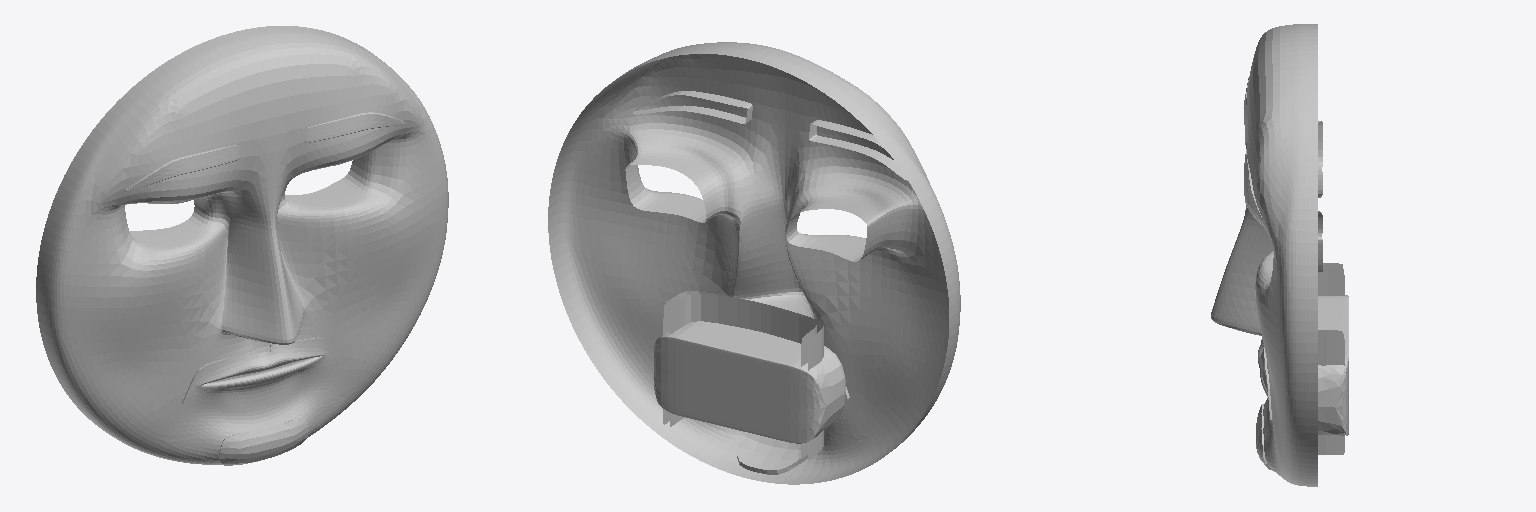
File: Test Parker.obj
3 renders of one model, left to right at view 1: azimuth 30°, elevation 25°; view 2: azimuth 150°, elevation 25°; view 3: azimuth 270°, elevation 25°, orthographic.
Visible parts, largest first — view 1: Circle.008_Circle.004; view 2: Circle.008_Circle.004; view 3: Circle.008_Circle.004.
Boxes of the visible parts, x1,y1,x2,y2 form: Circle.008_Circle.004: [36, 26, 448, 465]; Circle.008_Circle.004: [548, 42, 960, 484]; Circle.008_Circle.004: [1211, 24, 1348, 486].
Bounding box in the file's own units: 50.64 × 50.76 × 15.12.